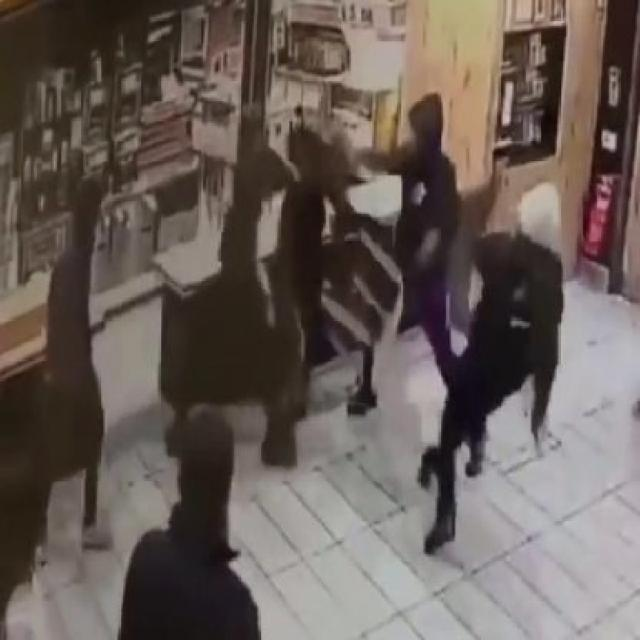fight: (261, 95, 568, 569)
